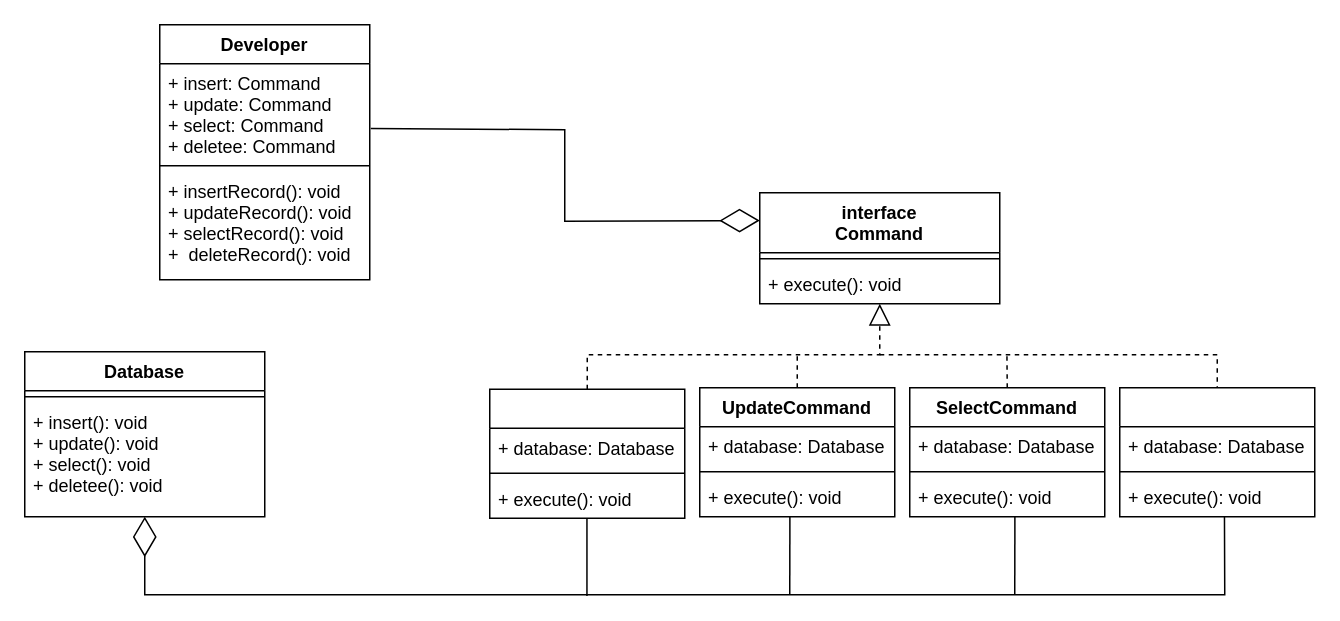
Image size: 1340x621. Some labels were removed from this diagram. Each missing label, with the box of its shape:
DeleteCommand: (1118, 386, 1315, 517)
InsertCommand: (488, 388, 685, 518)
